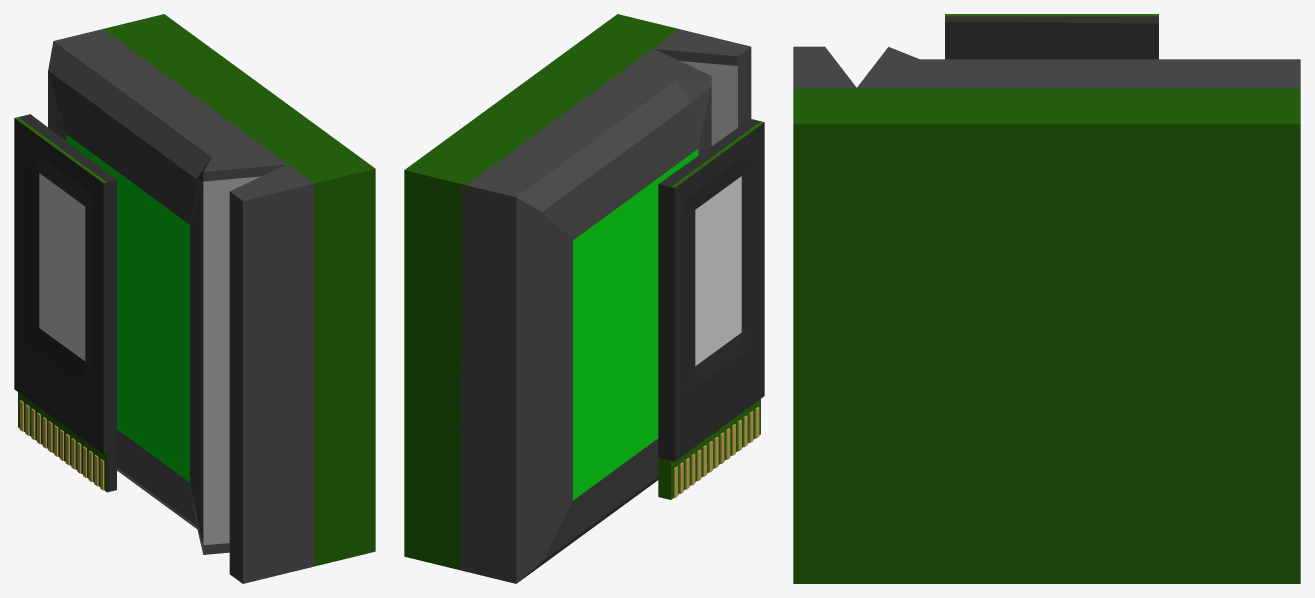
File: CardReaderAndCard.fbx
3 views of the same model, side by side, from view 1: azimuth 30°, elevation 25°; view 2: azimuth 150°, elevation 25°; view 3: azimuth 270°, elevation 25° (orthographic). The views are drawn at different scales.
Visible parts, largest first — view 1: CardReader, KeyCard; view 2: CardReader, KeyCard; view 3: CardReader, KeyCard.
Boxes of the visible parts, bbox=[...] form: CardReader: bbox=[48, 14, 375, 583]; KeyCard: bbox=[14, 114, 116, 492]; CardReader: bbox=[404, 14, 751, 583]; KeyCard: bbox=[658, 119, 764, 499]; CardReader: bbox=[793, 46, 1300, 583]; KeyCard: bbox=[945, 14, 1158, 59].
Bounding box in the file's own units: 16.86 × 29.53 × 29.53.
